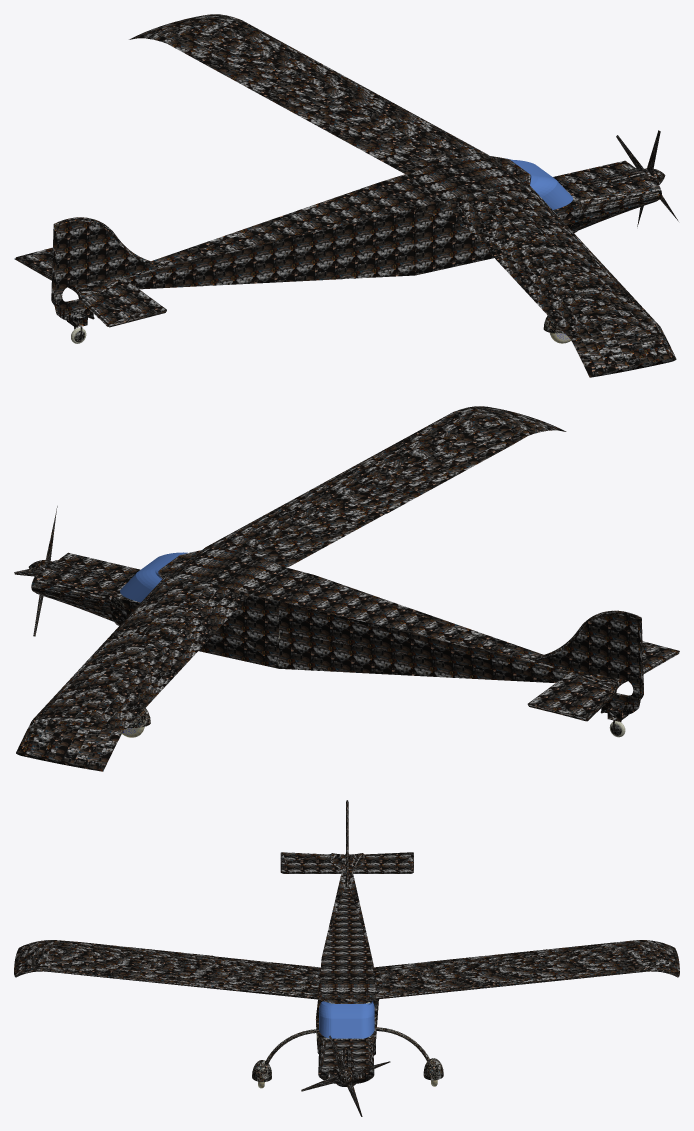
The picture shows the model from 3 angles, top to bottom: view 1: azimuth 30°, elevation 25°; view 2: azimuth 150°, elevation 25°; view 3: azimuth 270°, elevation 25°; orthographic projection. The views are drawn at different scales.
Parts seen in each view (by area): view 1: mesh84_mesh84-geometry; view 2: mesh84_mesh84-geometry; view 3: mesh84_mesh84-geometry.
Boxes of the visible parts, box(x1,y1,x2,y2) form: mesh84_mesh84-geometry: box(14, 14, 676, 377); mesh84_mesh84-geometry: box(16, 406, 679, 771); mesh84_mesh84-geometry: box(14, 800, 679, 1086).
Bounding box in the file's own units: 0.5938 × 0.1724 × 0.786.
